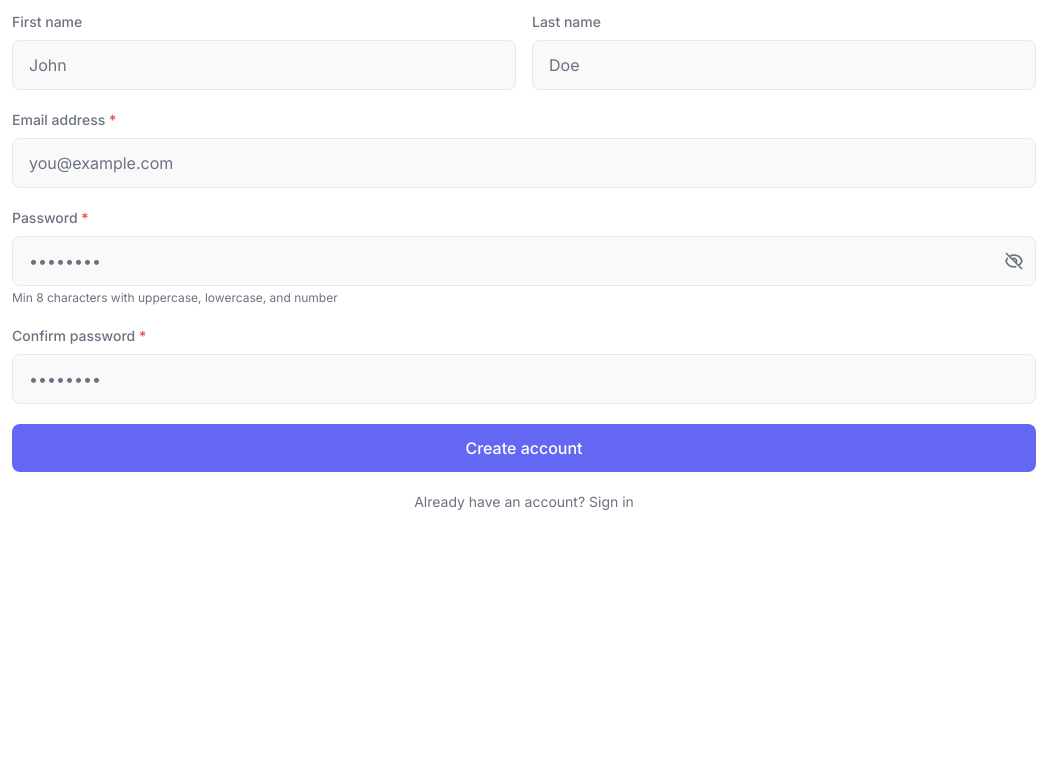
Test: RegisterForm › should show an email required error when submitted with an empty email
This screenshot has width=1048, height=780.
Click the button "Create account" at (524, 448), box [12,424,1036,472]
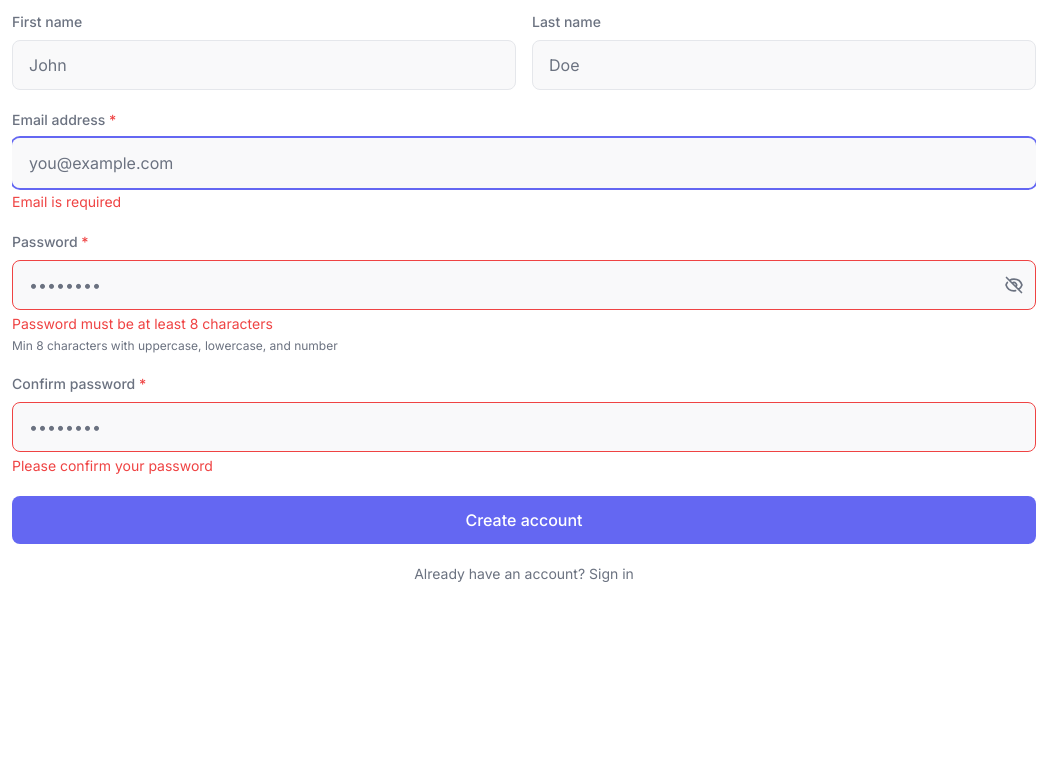
Result: the text "Email is required" is shown at [12,193,121,210]
